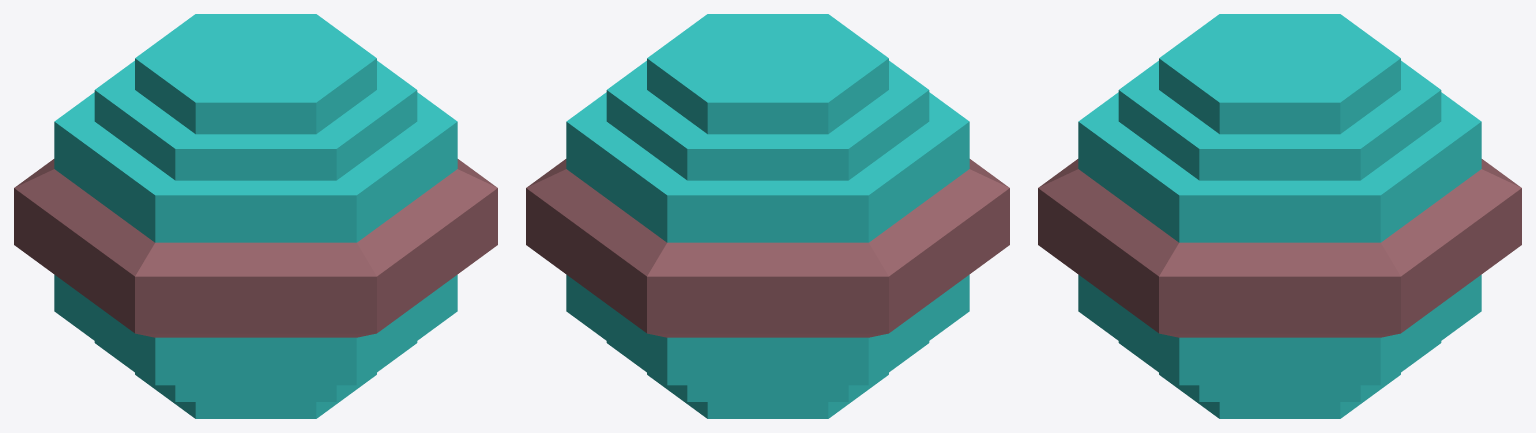
Rendered from planet_round_ring_teal.glb.
3 views of the same model, side by side, from view 1: azimuth 30°, elevation 25°; view 2: azimuth 150°, elevation 25°; view 3: azimuth 270°, elevation 25° (orthographic).
Visible parts, largest first — view 1: hexagon_overhangDetail%, hexagon (×4); view 2: hexagon_overhangDetail%, hexagon (×4); view 3: hexagon_overhangDetail%, hexagon (×4).
Part boxes in pixels (<box>): hexagon_overhangDetail%: <box>14,92,497,385</box>; hexagon (×4): <box>94,14,417,418</box>; hexagon_overhangDetail%: <box>526,92,1009,385</box>; hexagon (×4): <box>606,14,929,418</box>; hexagon_overhangDetail%: <box>1038,92,1521,385</box>; hexagon (×4): <box>1118,14,1441,418</box>.
Size of the model in its own units: 1.2 by 1 by 1.39.
